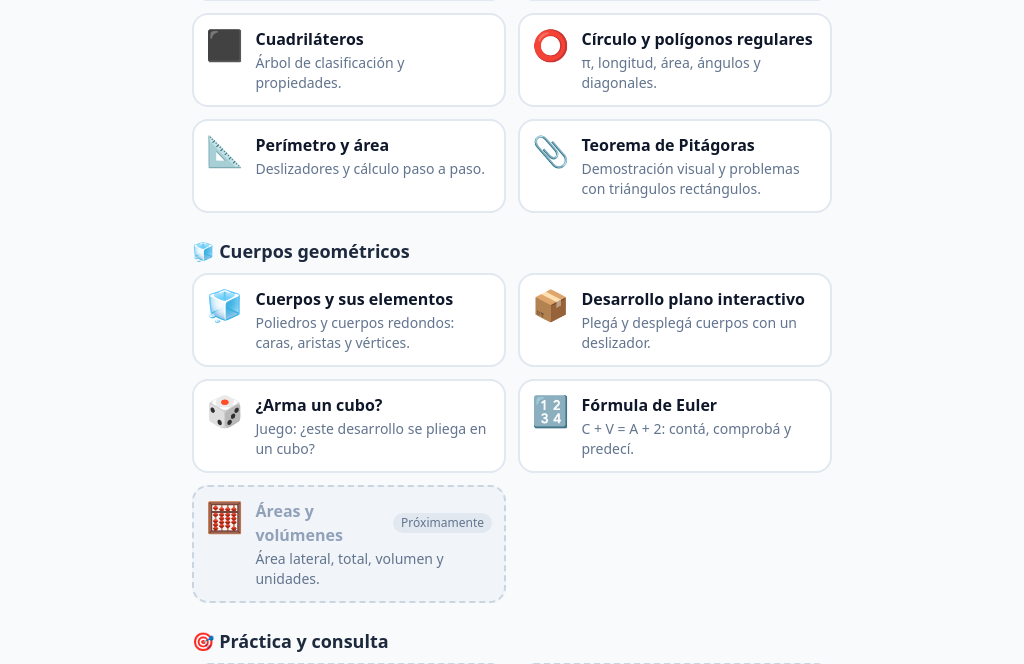
Scenario: Desarrollo plano interactivo (registro en el menú) › se abre desde el menú y muestra la galería de cuerpos
(page scrolled)
Step 1. Click the button "Desarrollo plano interactivo" → x=675, y=320, box [518,273,832,367]
(page scrolled)
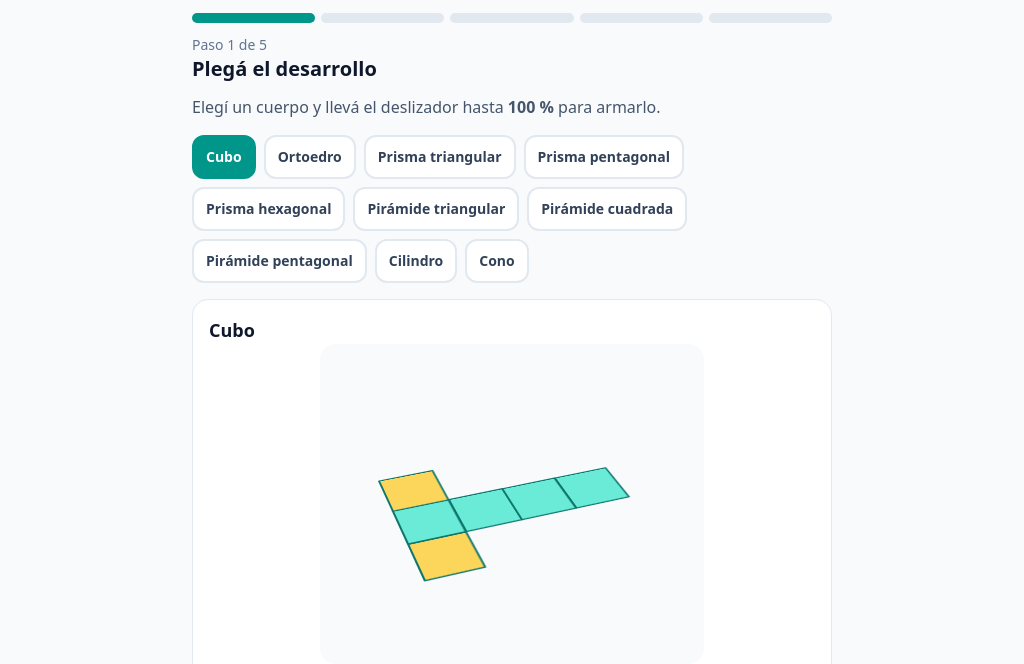
Check: the button "Cubo" is shown, box [192,135,256,179]
Check: the heading "Plegá el desarrollo" is shown, box [192,55,377,82]
Check: the button "Cono" is shown, box [465,239,529,283]
